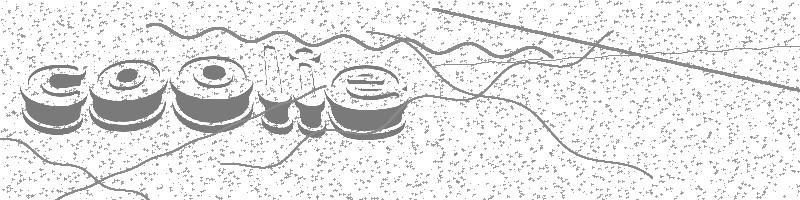c: (19, 63, 88, 136)
e: (325, 64, 408, 141)
i: (289, 47, 326, 139)
l: (258, 44, 294, 136)
o: (169, 55, 256, 134), (89, 58, 168, 133)
